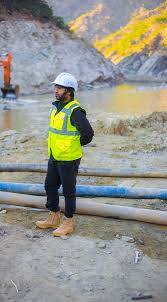Helmet: (50, 73, 78, 88)
Jacket: (50, 103, 81, 159)
